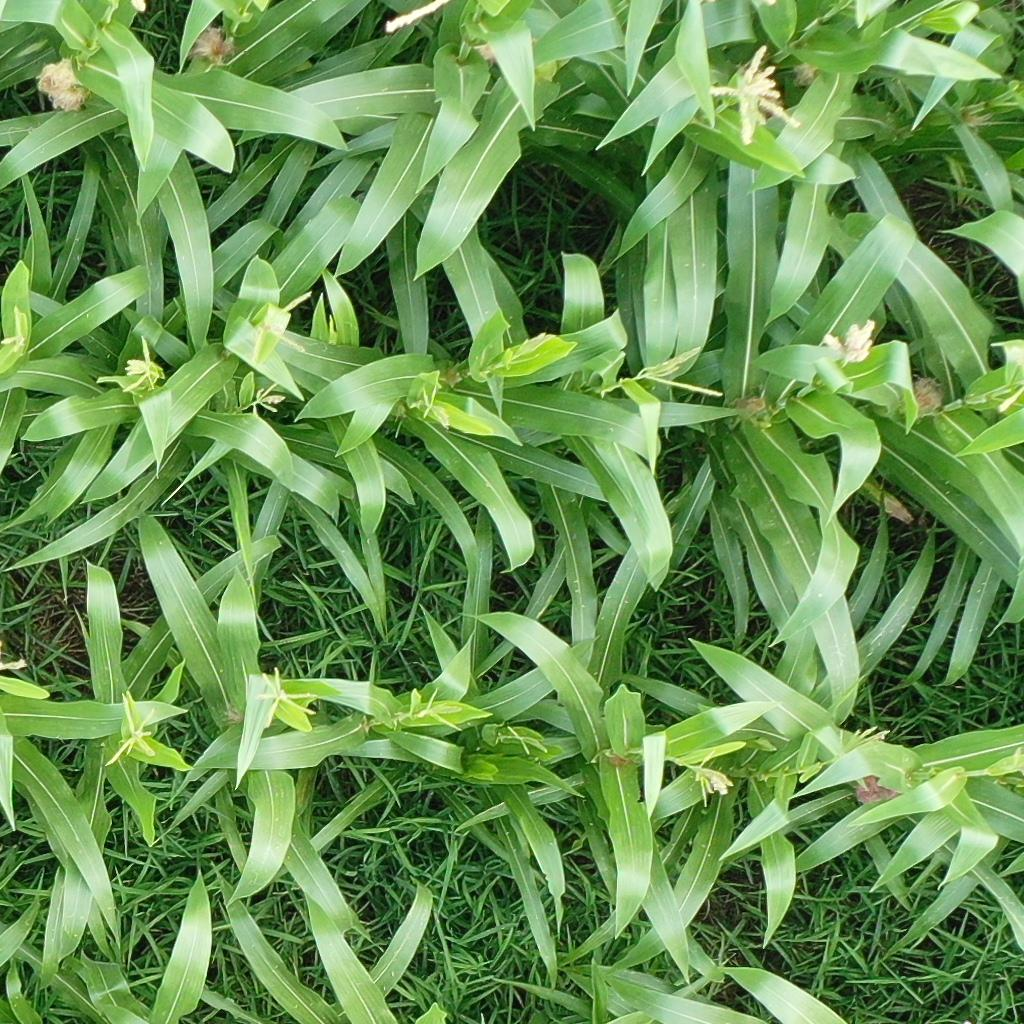Tassel: (705, 38, 804, 147), (636, 342, 727, 398), (102, 691, 161, 768), (254, 667, 319, 729), (266, 290, 315, 358), (691, 748, 736, 812), (823, 317, 878, 367), (120, 337, 165, 392), (410, 380, 453, 432), (418, 686, 465, 732), (840, 724, 889, 760), (498, 722, 548, 756), (1, 307, 29, 356), (511, 333, 553, 364), (252, 381, 285, 415), (1002, 747, 1024, 781)
